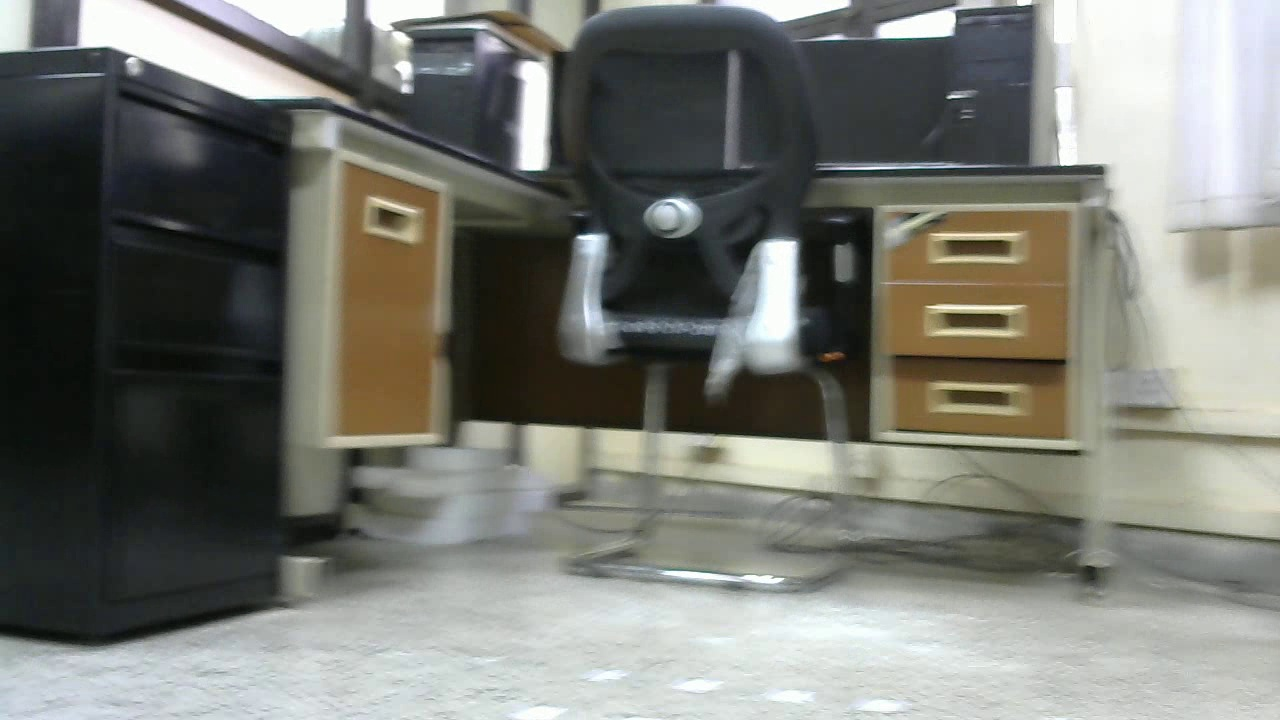chair: (546, 8, 868, 596)
